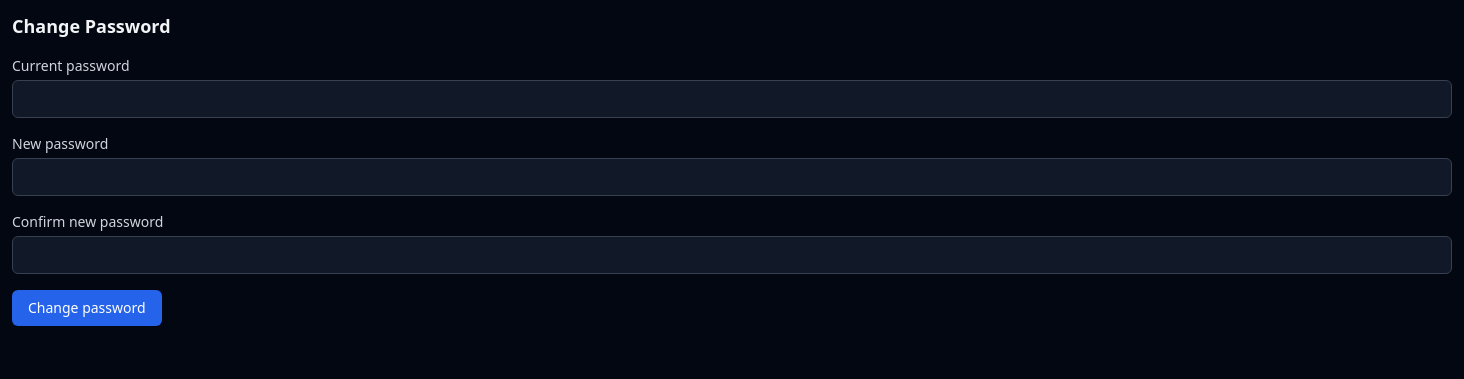
PasswordForm › shows error when changePassword rejects
Step 1. Type "OldPass1" into the password field labelled "Current password" → (732, 99), box [12,80,1452,118]
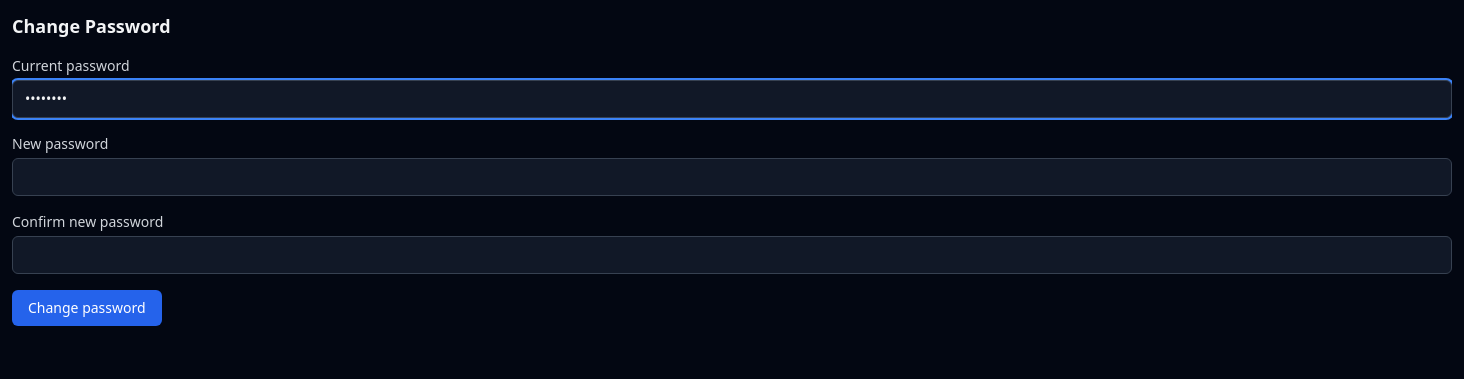
Step 2. Type "NewPass1" into the password field labelled "New password" → (732, 177), box [12,158,1452,196]
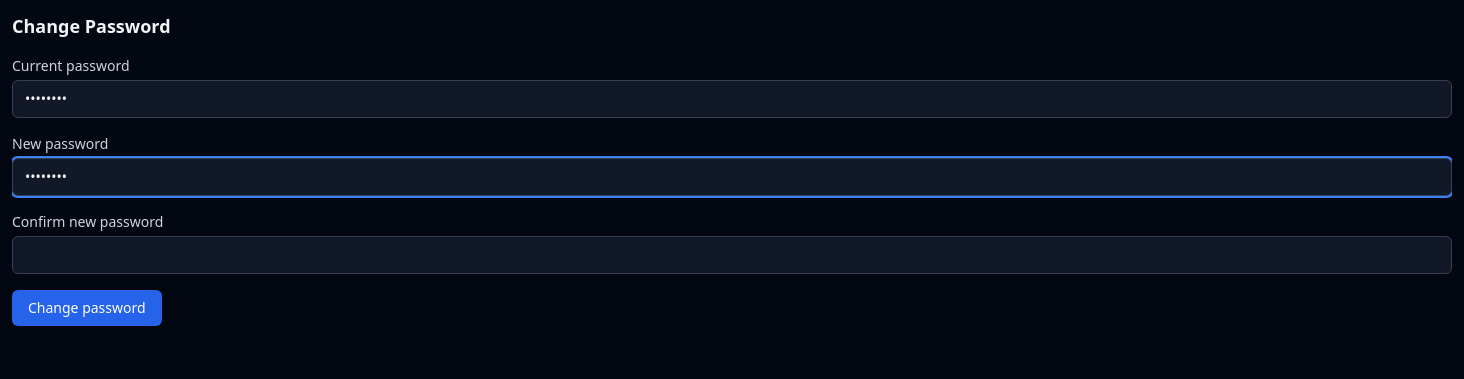
Step 3. Type "NewPass1" into the password field labelled "Confirm new password" → (732, 255), box [12,236,1452,274]
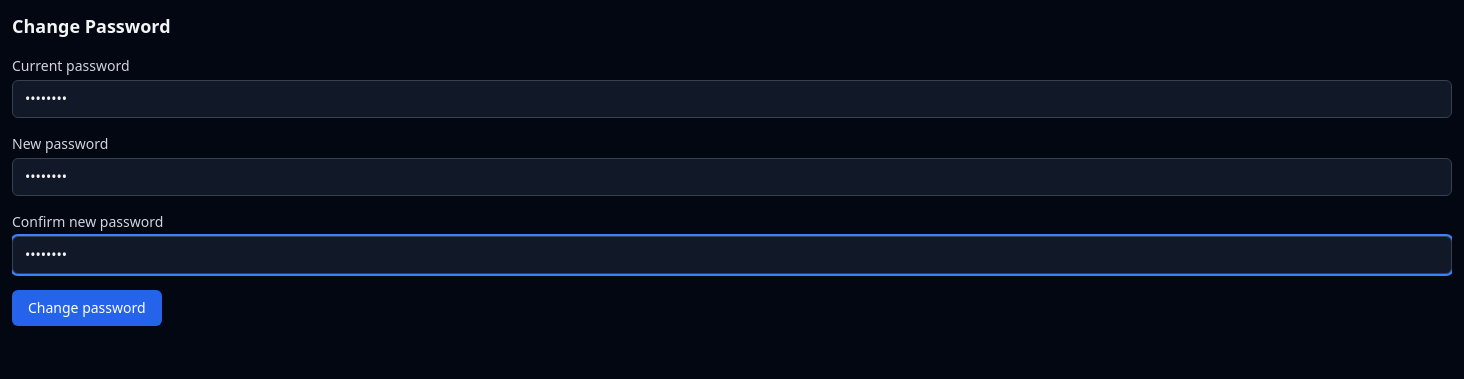
Step 4. Click the button "Change password" → (87, 308), box [12,290,162,326]
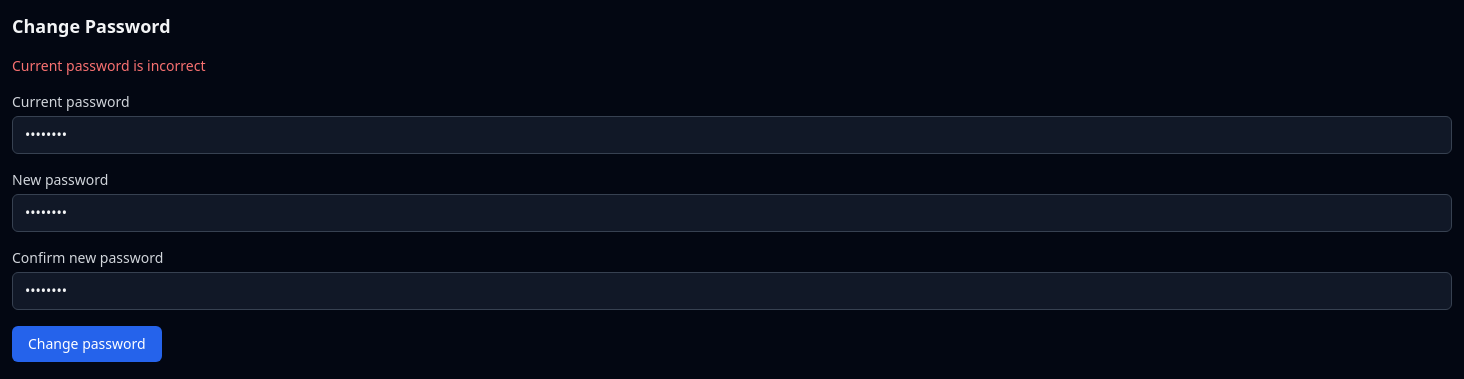
Now the text "Current password is incorrect" is shown, box [12,56,206,75]
